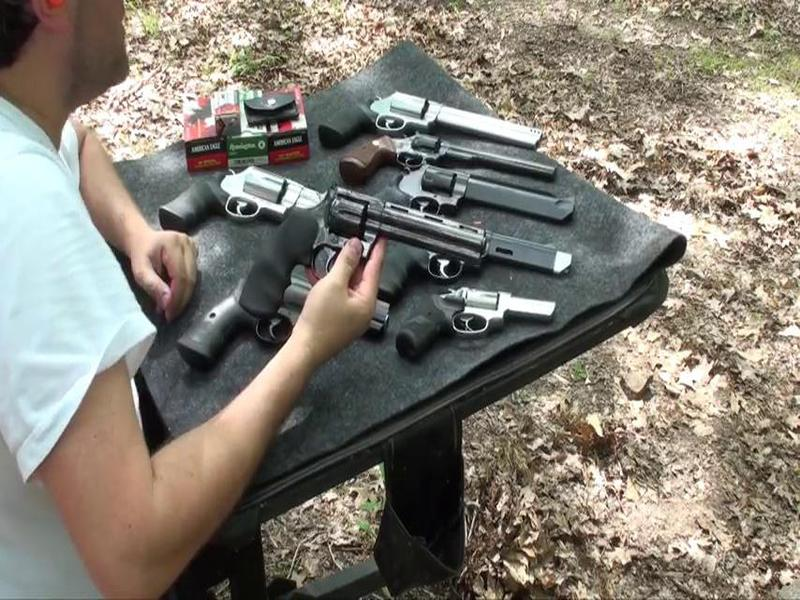Revolver: (239, 169, 494, 345)
